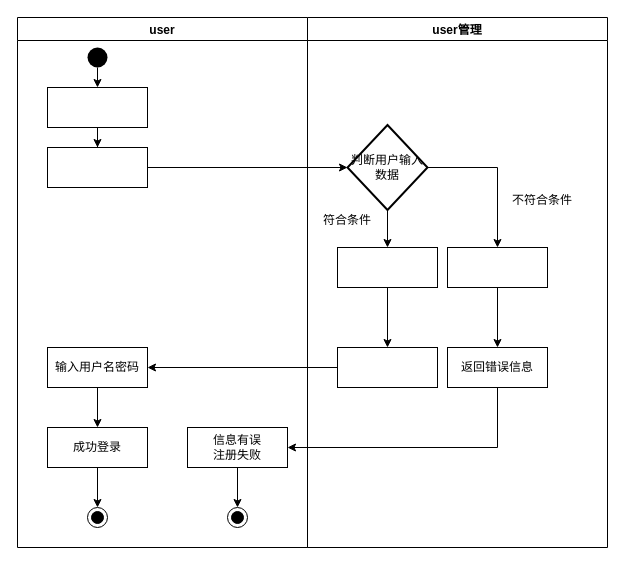
Image size: 625x565. Some labels were removed from this diagram. Each missing label, with the centre of its shape:
注册失败: the point at 497,267
注册成功 用户数据保存到数据库: the point at 387,267
访问注册页面: the point at 97,107
输入用户信息: the point at 97,167
返回登录页面: the point at 387,367
